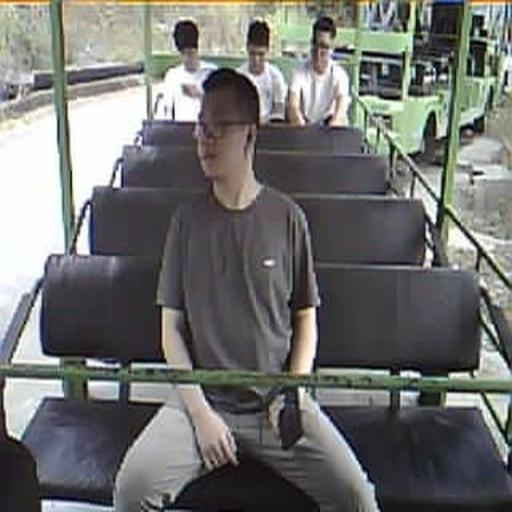persona: (112, 67, 382, 510), (287, 16, 352, 128), (157, 18, 219, 122), (234, 19, 288, 124)
